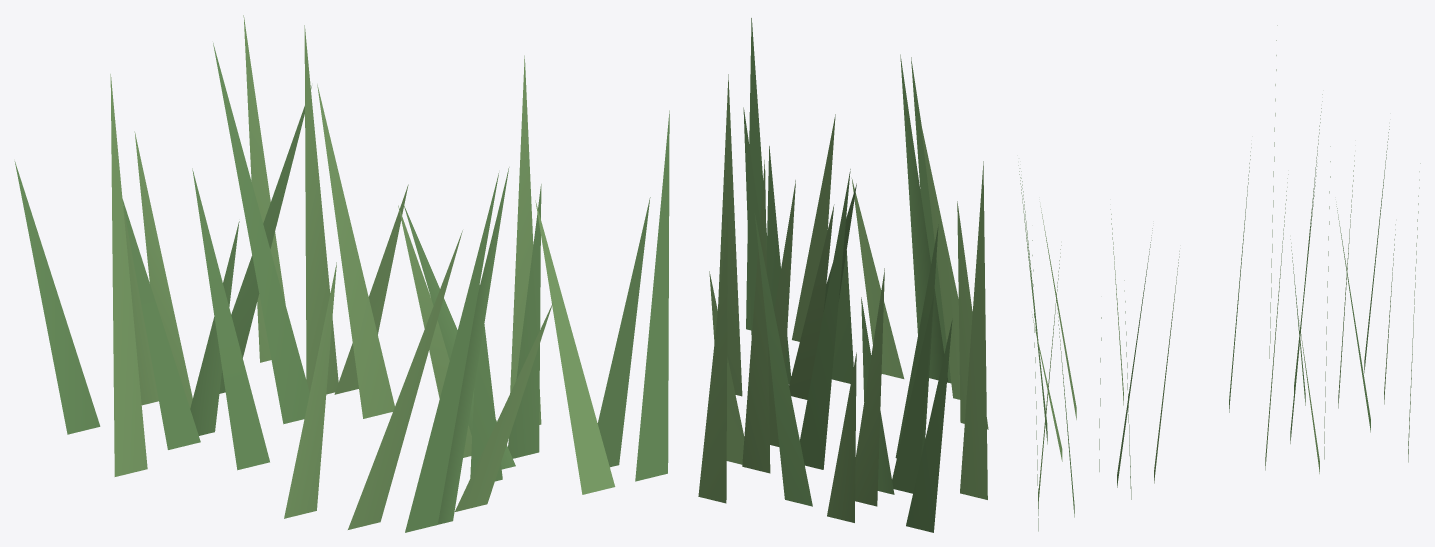
File: grass.glb
The picture shows the model from 3 angles, left to right: view 1: azimuth 30°, elevation 25°; view 2: azimuth 150°, elevation 25°; view 3: azimuth 270°, elevation 25°; orthographic projection. The views are drawn at different scales.
Parts seen in each view (by area): view 1: boat_leafA, boat_leafB; view 2: boat_leafB, boat_leafA; view 3: boat_leafA, boat_leafB.
Part boxes in pixels (x1=…): boat_leafA: x1=14, y1=43, x2=669, y2=532; boat_leafB: x1=110, y1=15, x2=615, y2=529; boat_leafB: x1=698, y1=74, x2=988, y2=522; boat_leafA: x1=743, y1=18, x2=952, y2=532; boat_leafA: x1=1018, y1=94, x2=1389, y2=531; boat_leafB: x1=1032, y1=25, x2=1420, y2=508.
Size of the model in its own units: 0.8161 by 0.6993 by 0.7425.
